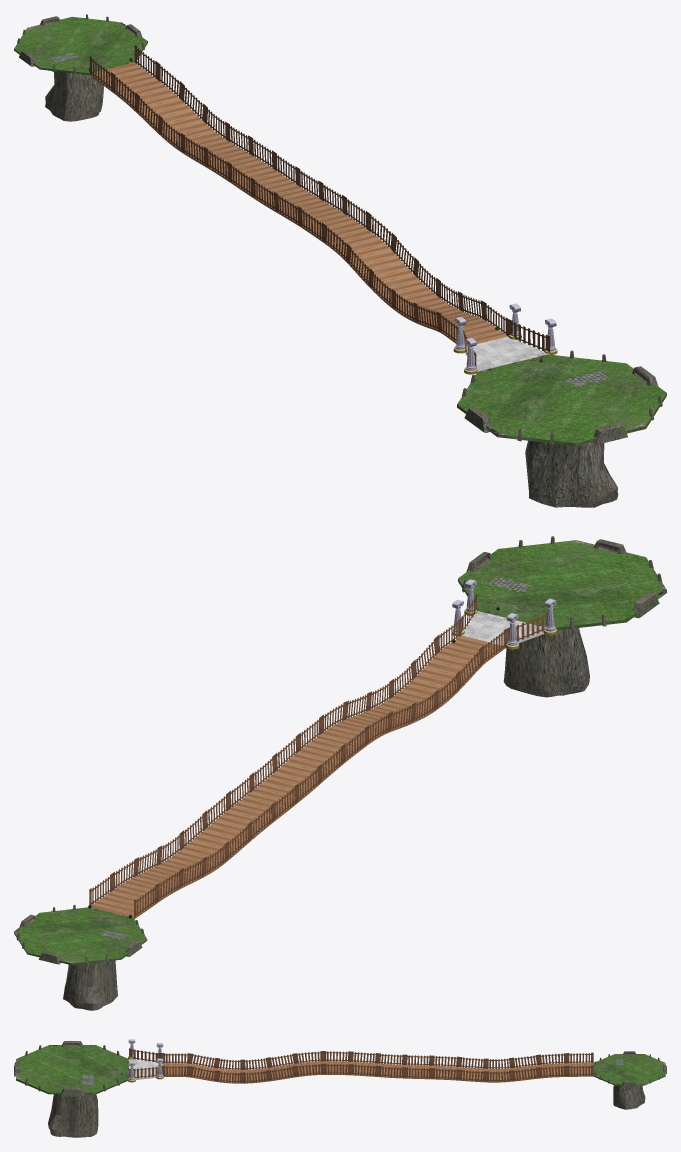
File: TRACK1.fbx
3 views of the same model, one above another, from view 1: azimuth 30°, elevation 25°; view 2: azimuth 150°, elevation 25°; view 3: azimuth 270°, elevation 25° (orthographic). The views are drawn at different scales.
Parts seen in each view (by area): view 1: Cube, _gltfNode_23.001, _gltfNode_23, CASTLE_ON_THE_HILL__4_:pCube39_CASTLE_ON_THE_HILL__4_:blinn, CASTLE_ON_THE_HILL__4_:pCube39_CASTLE_ON_THE_HILL__4_:blinn2, Cube.001; view 2: Cube, _gltfNode_23.001, _gltfNode_23, CASTLE_ON_THE_HILL__4_:pCube39_CASTLE_ON_THE_HILL__4_:blinn, CASTLE_ON_THE_HILL__4_:pCube39_CASTLE_ON_THE_HILL__4_:blinn2, Cube.001; view 3: Cube, _gltfNode_23.001, _gltfNode_23, CASTLE_ON_THE_HILL__4_:pCube39_CASTLE_ON_THE_HILL__4_:blinn, Cube.001, CASTLE_ON_THE_HILL__4_:pCube39_CASTLE_ON_THE_HILL__4_:blinn2.
Boxes of the visible parts, x1,y1,x2,y2 form: Cube: (89, 45, 508, 346); _gltfNode_23.001: (457, 350, 666, 445); _gltfNode_23: (14, 14, 147, 75); CASTLE_ON_THE_HILL__4_:pCube39_CASTLE_ON_THE_HILL__4_:blinn: (525, 440, 618, 507); CASTLE_ON_THE_HILL__4_:pCube39_CASTLE_ON_THE_HILL__4_:blinn2: (45, 71, 103, 121); Cube.001: (463, 319, 549, 373); Cube: (89, 618, 505, 918); _gltfNode_23.001: (458, 536, 666, 630); _gltfNode_23: (14, 905, 147, 965); CASTLE_ON_THE_HILL__4_:pCube39_CASTLE_ON_THE_HILL__4_:blinn: (503, 628, 589, 697); CASTLE_ON_THE_HILL__4_:pCube39_CASTLE_ON_THE_HILL__4_:blinn2: (63, 960, 117, 1010); Cube.001: (461, 594, 547, 645); Cube: (162, 1051, 593, 1083); _gltfNode_23.001: (14, 1041, 128, 1096); _gltfNode_23: (593, 1051, 666, 1086); CASTLE_ON_THE_HILL__4_:pCube39_CASTLE_ON_THE_HILL__4_:blinn: (48, 1094, 98, 1137); Cube.001: (129, 1048, 162, 1079); CASTLE_ON_THE_HILL__4_:pCube39_CASTLE_ON_THE_HILL__4_:blinn2: (613, 1085, 645, 1109).
Size of the model in its own units: 1484 by 1031 by 8283.
Materials: 7 (7 with a texture image).
